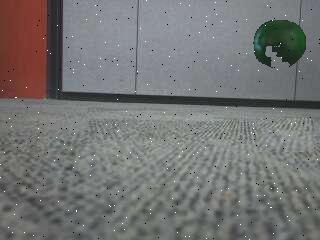Tomato: (253, 19, 306, 68)
